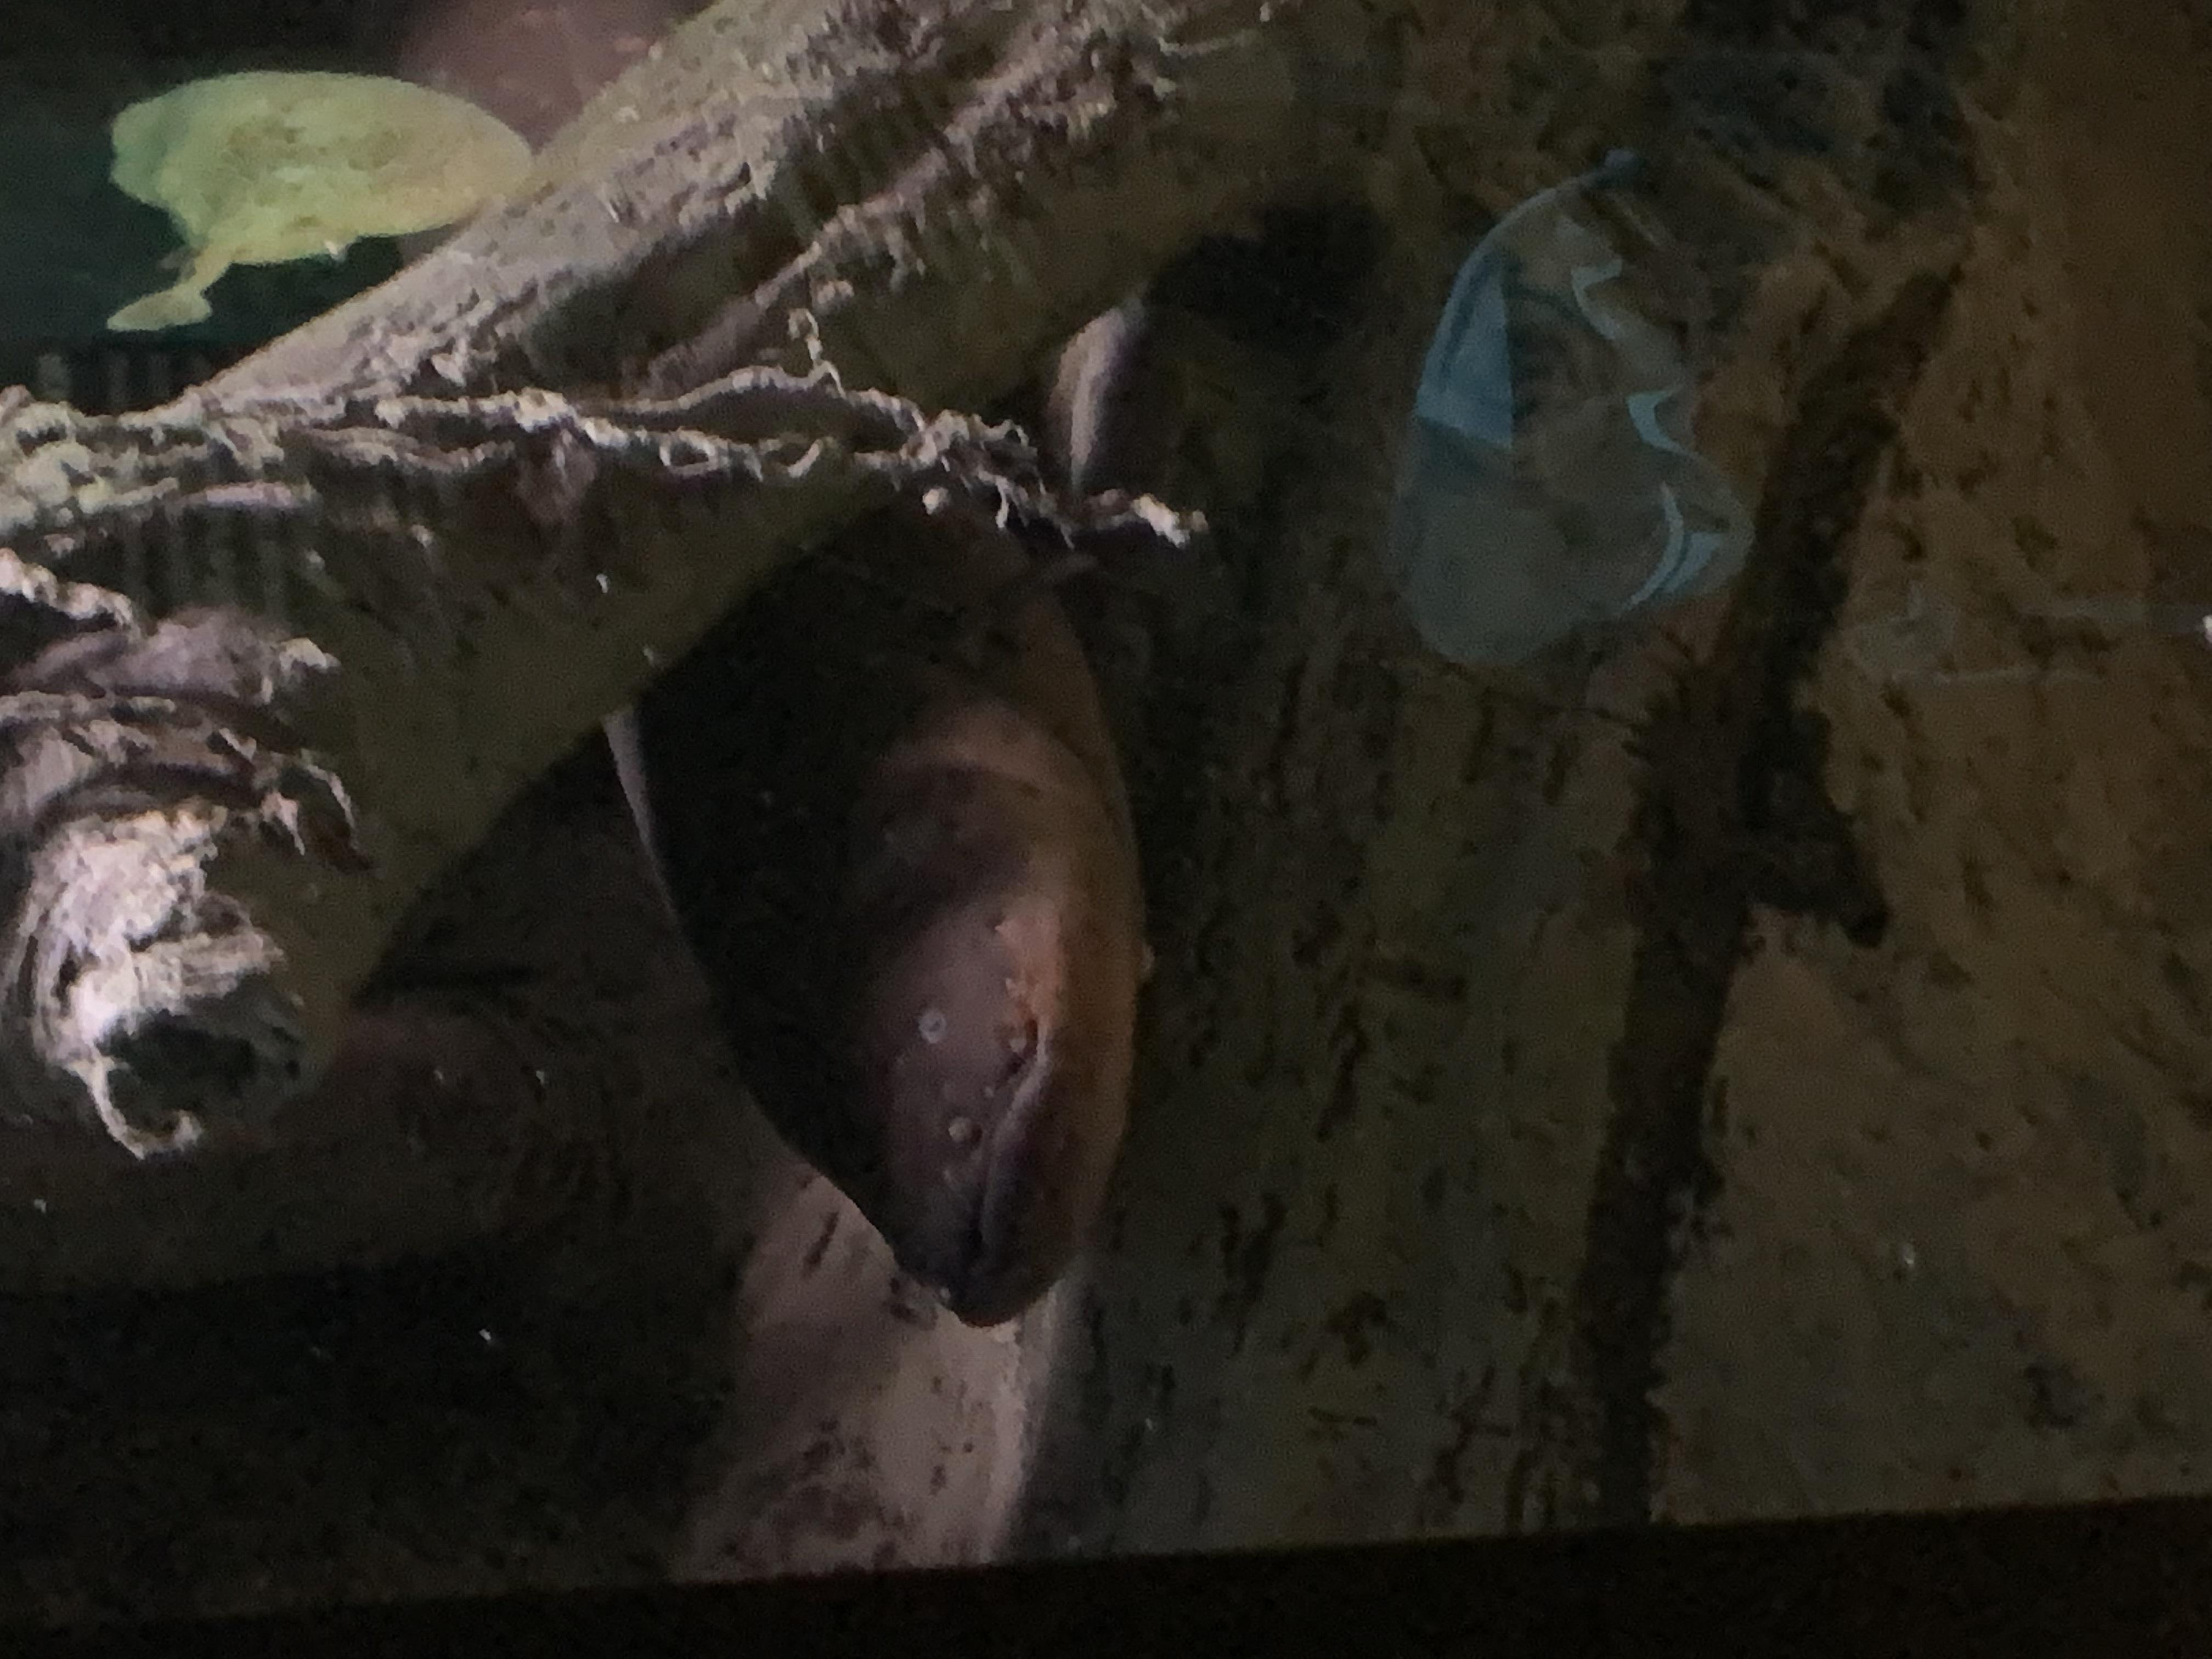fish: (592, 439, 1169, 1337)
